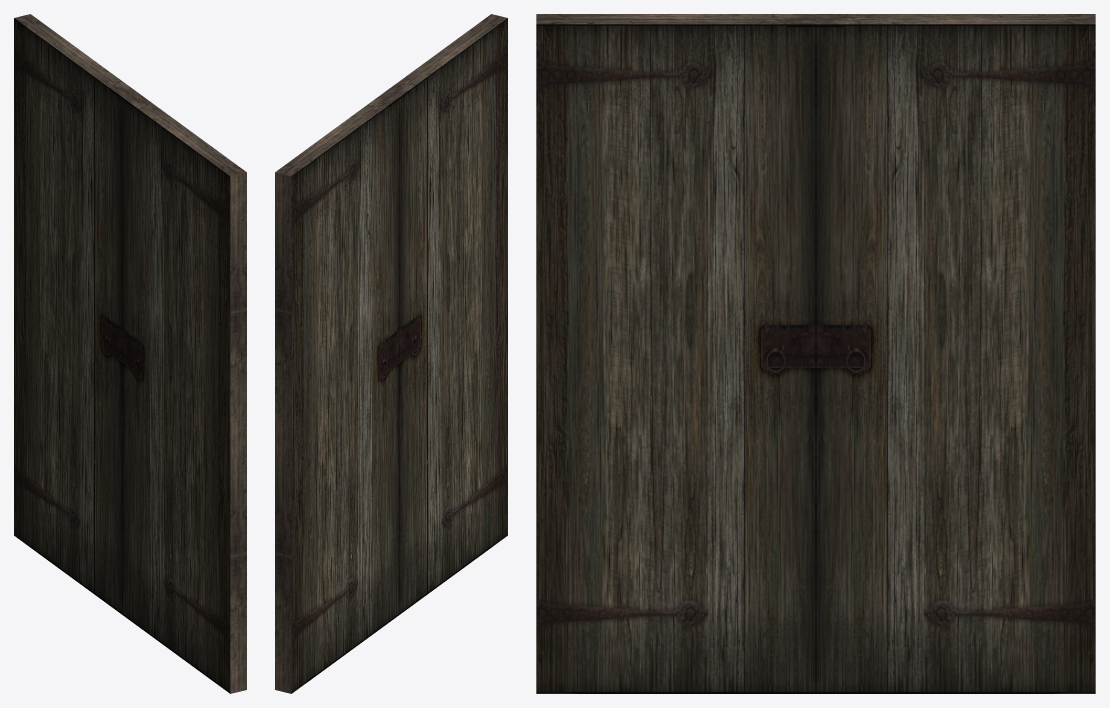
Rendered from 2partDoor.FBX.
3 renders of one model, left to right at view 1: azimuth 30°, elevation 25°; view 2: azimuth 150°, elevation 25°; view 3: azimuth 270°, elevation 25°, orthographic. The views are drawn at different scales.
Parts seen in each view (by area): view 1: gate_p1, gate_p2; view 2: gate_p2, gate_p1; view 3: gate_p1, gate_p2.
Boxes of the visible parts, x1=… form: gate_p1: x1=122, y1=93, x2=246, y2=693; gate_p2: x1=14, y1=14, x2=138, y2=614; gate_p2: x1=275, y1=93, x2=399, y2=693; gate_p1: x1=383, y1=14, x2=507, y2=614; gate_p1: x1=536, y1=14, x2=815, y2=693; gate_p2: x1=816, y1=14, x2=1095, y2=693.
Bounding box in the file's own units: 4.88 × 146 × 111.
